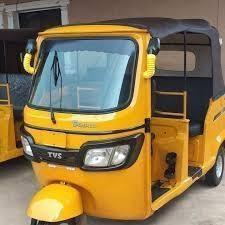keke: (8, 21, 225, 224)
